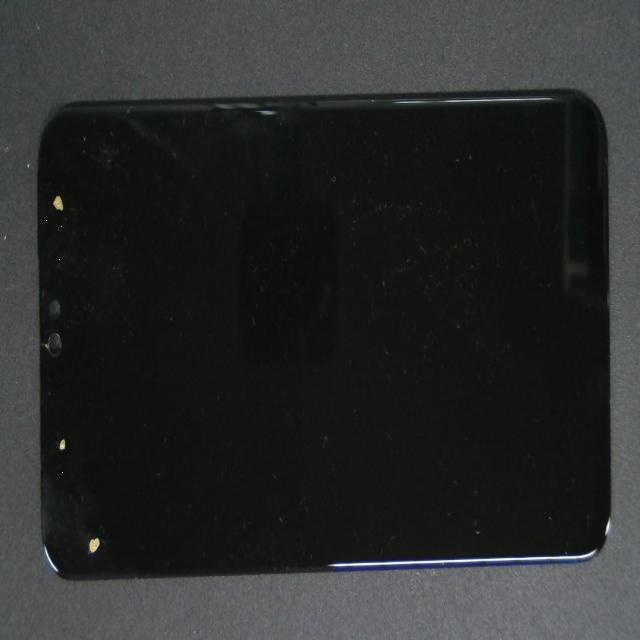stain: (58, 230, 124, 640), (26, 183, 83, 640), (8, 75, 67, 335)
